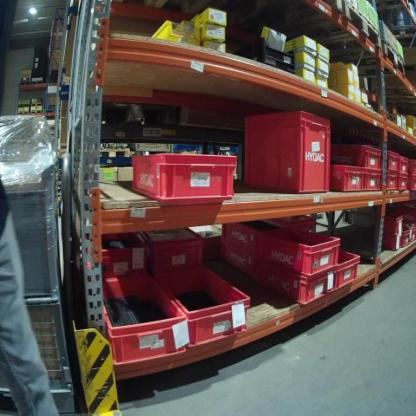pallet: (275, 1, 382, 49), (311, 38, 407, 81), (248, 0, 343, 21), (97, 147, 132, 169), (31, 109, 43, 113), (31, 104, 42, 107), (18, 111, 29, 114), (18, 104, 29, 106)
small_load_carrier: (240, 108, 332, 196), (157, 264, 253, 345), (98, 280, 190, 364), (127, 149, 238, 204), (216, 215, 318, 256), (259, 227, 343, 267), (259, 267, 336, 307), (143, 230, 204, 275), (100, 235, 148, 280), (216, 238, 256, 280), (329, 144, 382, 173), (329, 161, 363, 195), (333, 252, 361, 291), (372, 233, 403, 256), (374, 213, 404, 233), (364, 173, 382, 194), (385, 172, 401, 192), (386, 151, 401, 171), (399, 154, 410, 176), (399, 228, 411, 248), (397, 176, 410, 193), (409, 158, 415, 177), (410, 227, 415, 244), (411, 177, 416, 192)
stillage: (0, 159, 81, 413)
